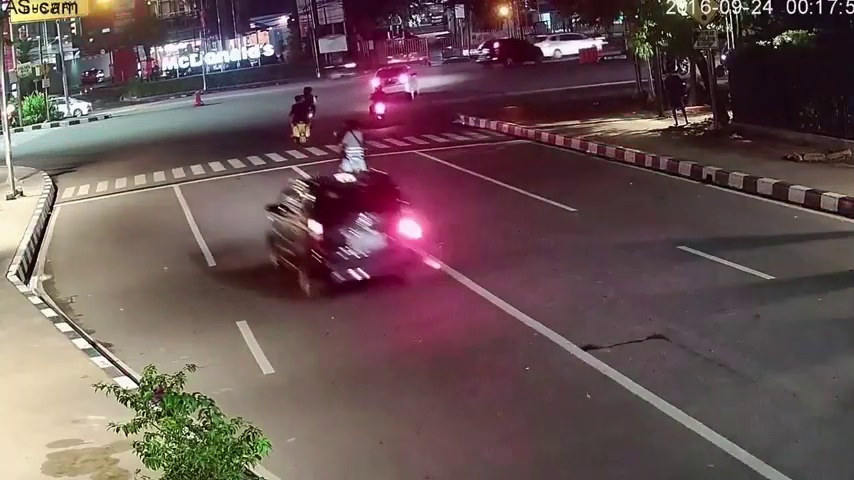car: (267, 175, 424, 292), (478, 39, 546, 70), (537, 32, 601, 63), (372, 68, 416, 101), (41, 93, 92, 118)
motorbike: (336, 125, 370, 177), (289, 94, 311, 149), (368, 86, 387, 123)
